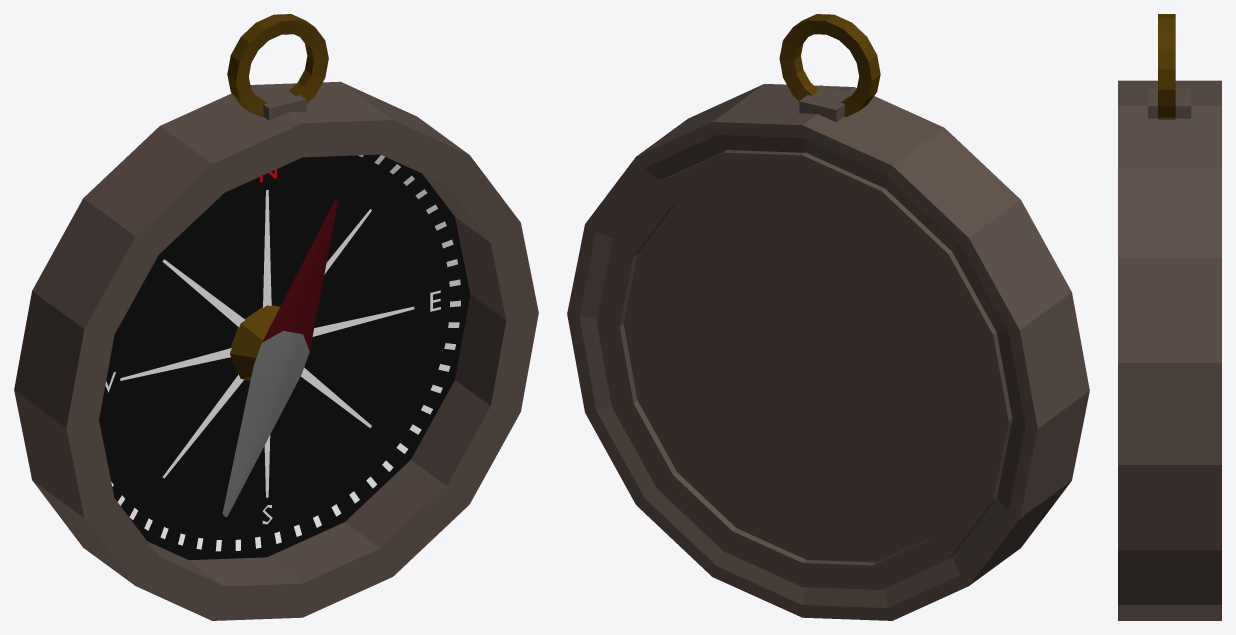
File: compass.fbx
3 views of the same model, side by side, from view 1: azimuth 30°, elevation 25°; view 2: azimuth 150°, elevation 25°; view 3: azimuth 270°, elevation 25° (orthographic).
Visible parts, largest first — view 1: Compass, Compass Needle; view 2: Compass; view 3: Compass.
Boxes of the visible parts, <box> form: Compass: <box>14,14,538,620</box>; Compass Needle: <box>222,201,338,516</box>; Compass: <box>567,14,1089,620</box>; Compass: <box>1118,14,1221,620</box>.
Size of the model in its own units: 8.1 by 9.54 by 1.55.
